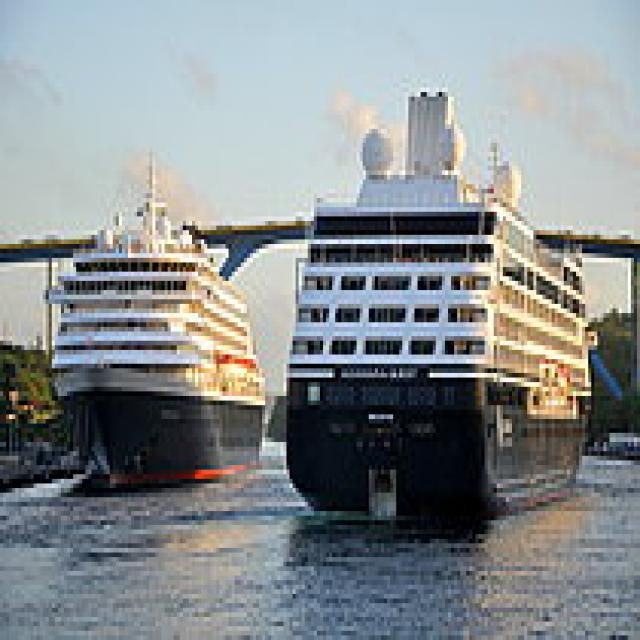Ship: (266, 79, 611, 558), (41, 135, 273, 499)
